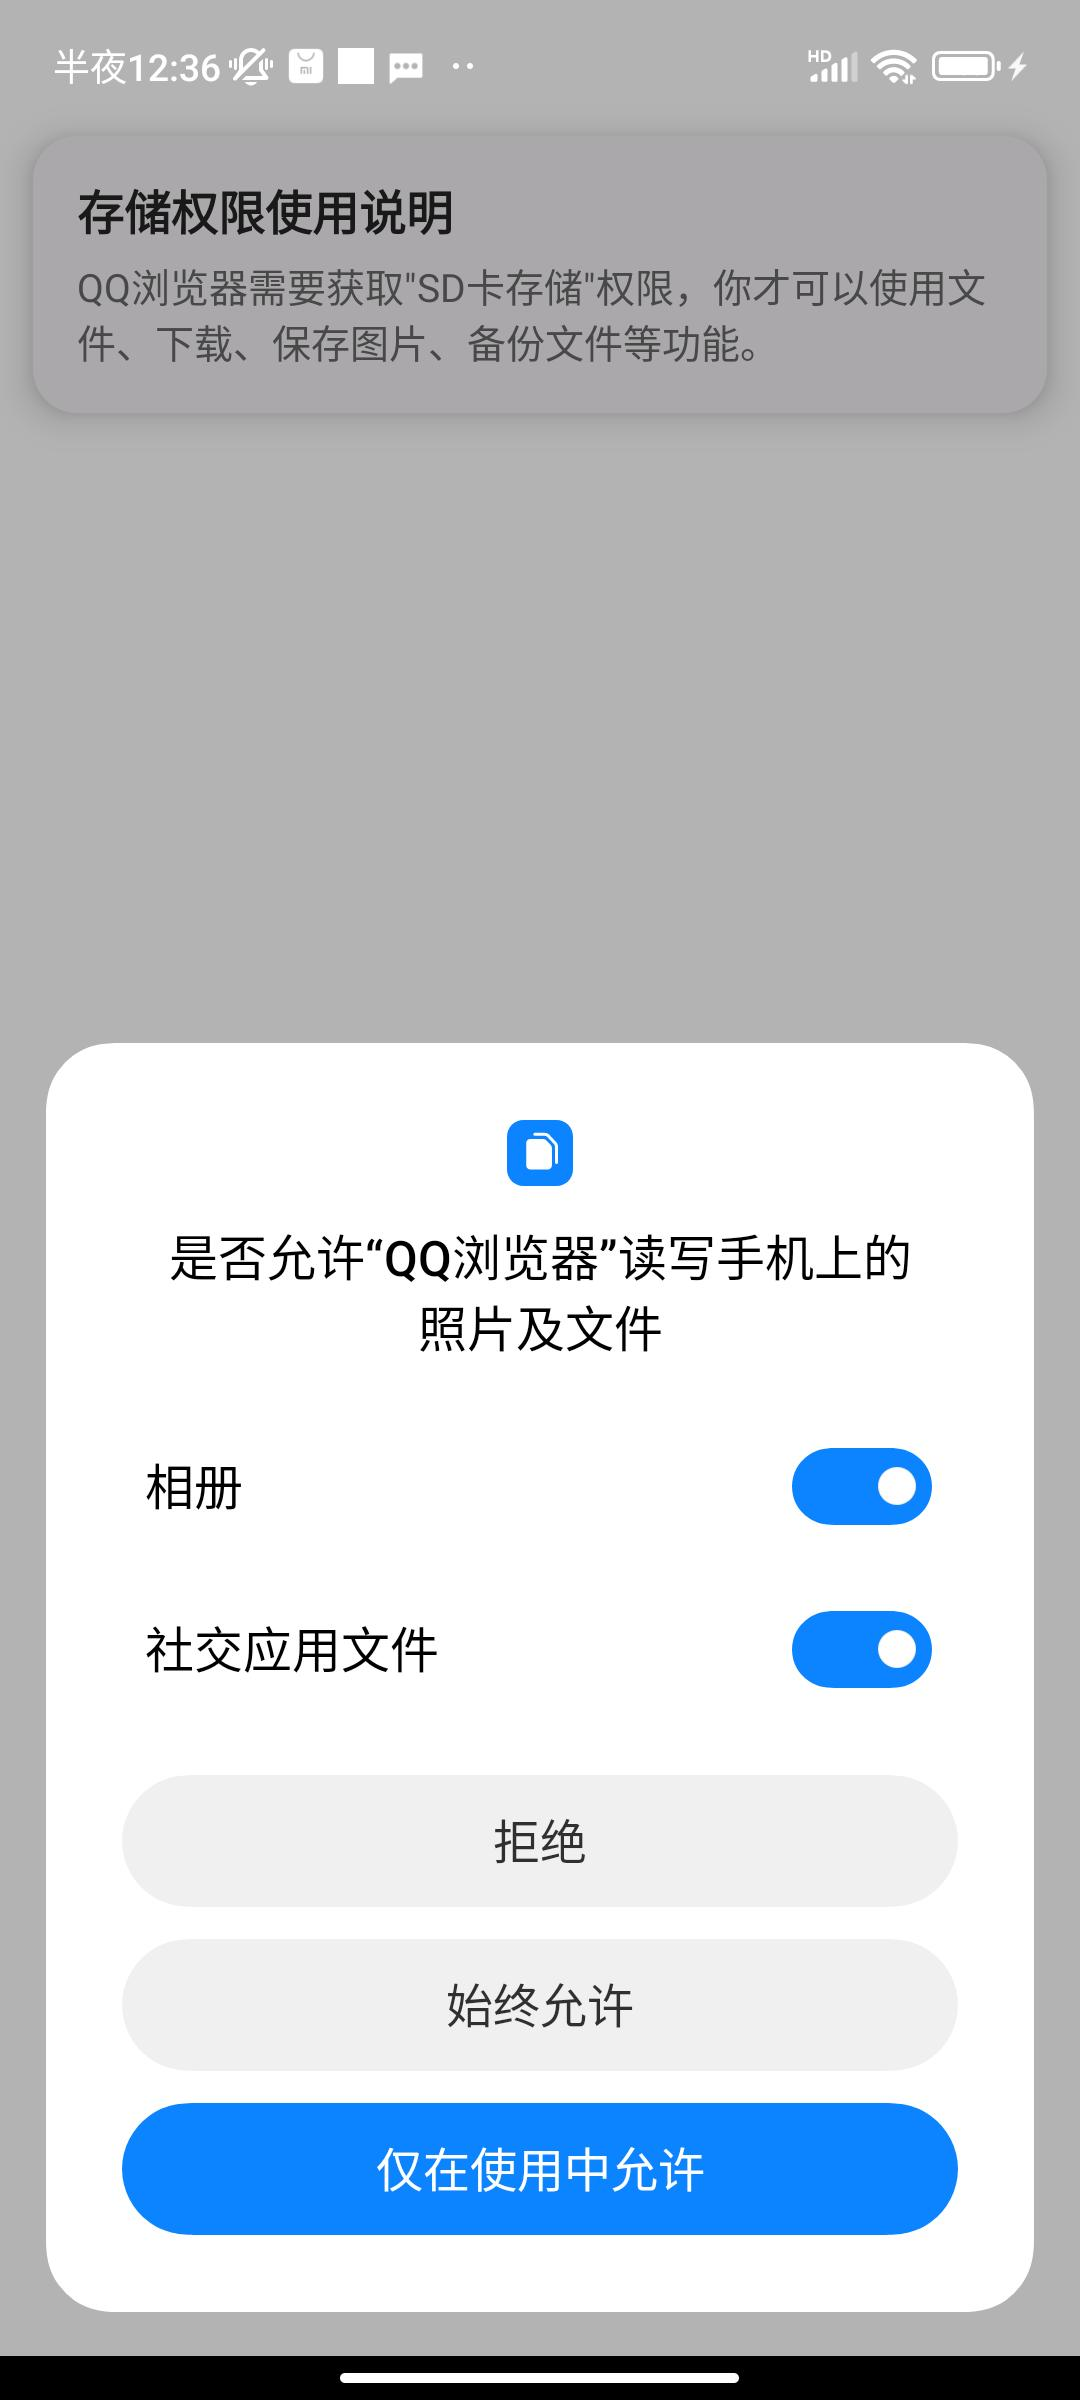ui_group: (41, 1039, 1036, 2317)
